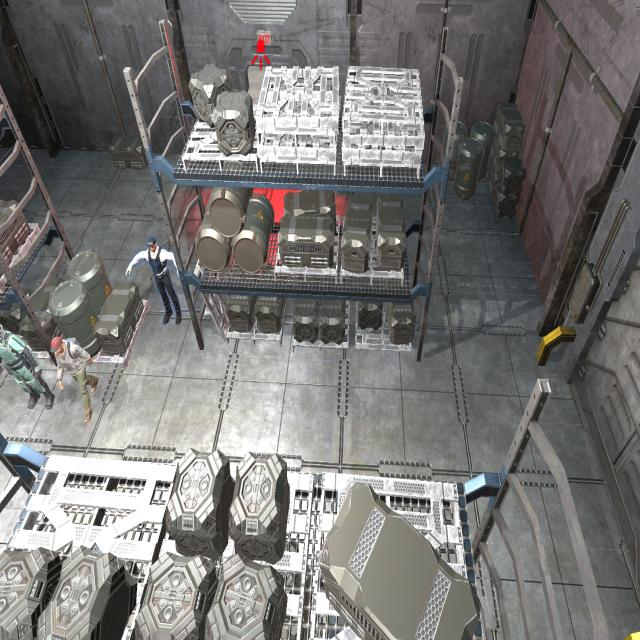thiefs: (48, 333, 105, 430)
